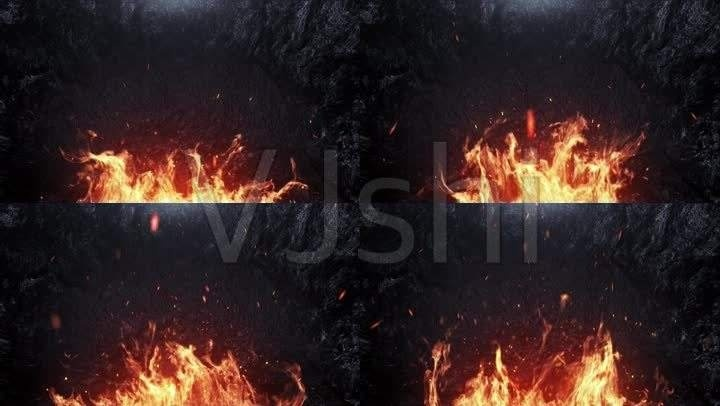fire: (427, 311, 663, 406), (46, 322, 300, 406), (442, 106, 649, 202), (72, 139, 312, 203)
